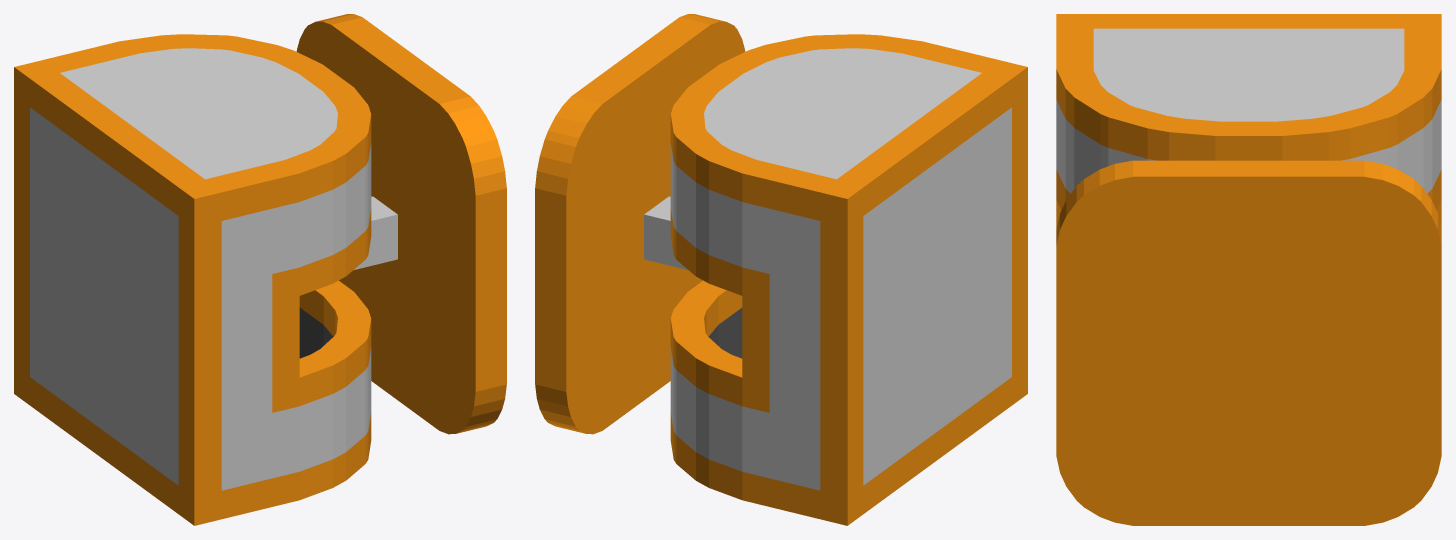
File: Pivot.fbx
The picture shows the model from 3 angles, left to right: view 1: azimuth 30°, elevation 25°; view 2: azimuth 150°, elevation 25°; view 3: azimuth 270°, elevation 25°; orthographic projection. The views are drawn at different scales.
Visible parts, largest first — view 1: Base, Pateau; view 2: Base, Pateau; view 3: Pateau, Base.
Part boxes in pixels (x1=…): Base: x1=14, y1=34, x2=371, y2=525; Pateau: x1=296, y1=14, x2=506, y2=434; Base: x1=670, y1=34, x2=1027, y2=525; Pateau: x1=535, y1=14, x2=745, y2=434; Pateau: x1=1056, y1=160, x2=1441, y2=525; Base: x1=1056, y1=14, x2=1441, y2=229.
Bounding box in the file's own units: 40 × 40 × 40.
